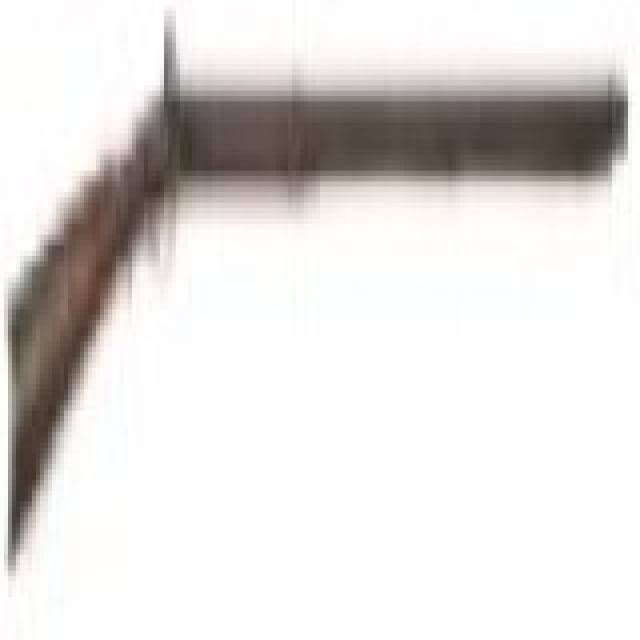Gun: (0, 5, 639, 586)
